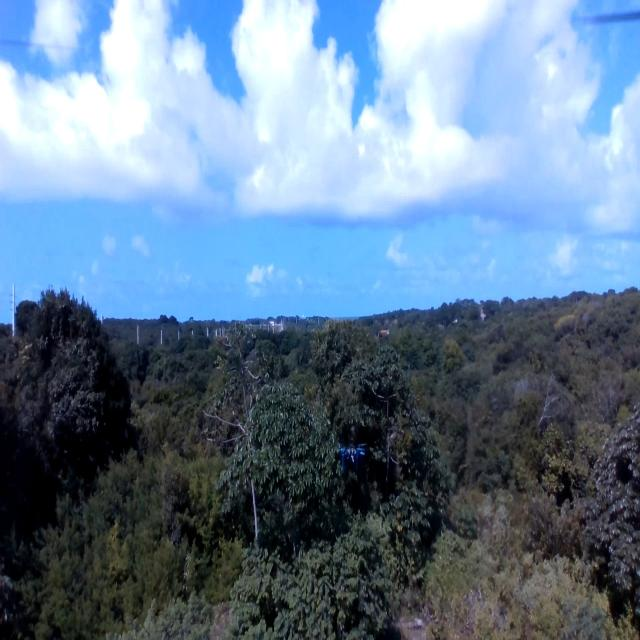-uav-: (329, 428, 370, 484)
